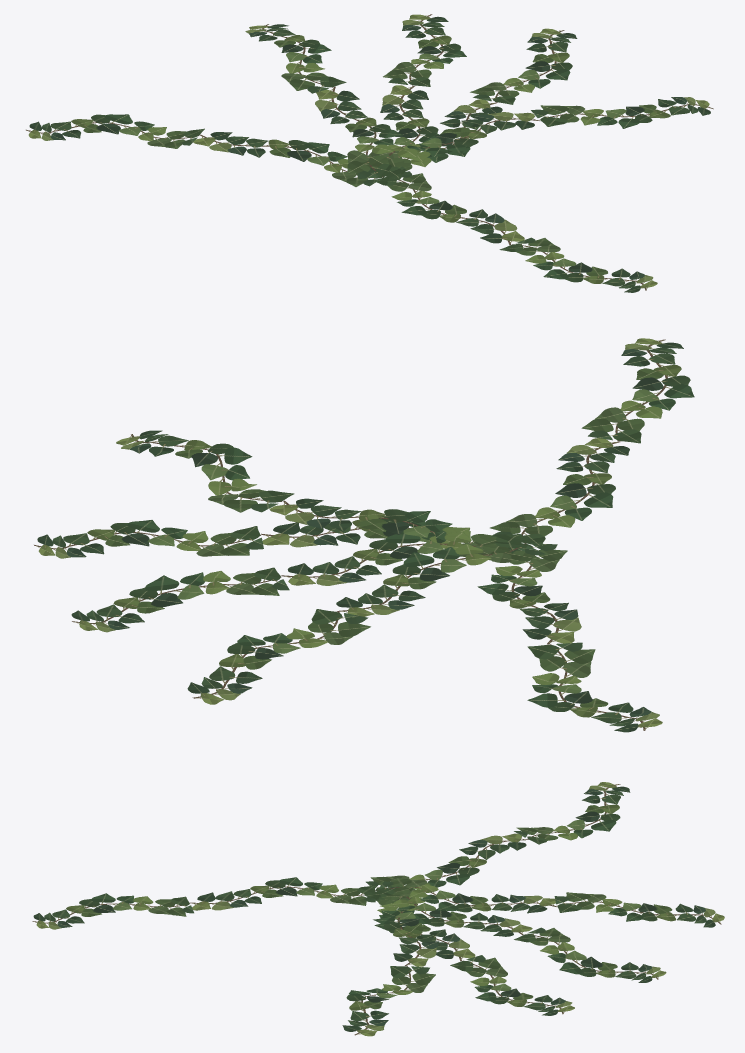
File: SM_Vine_Ground_Creeper.fbx
3 views of the same model, one above another, from view 1: azimuth 30°, elevation 25°; view 2: azimuth 150°, elevation 25°; view 3: azimuth 270°, elevation 25° (orthographic). The views are drawn at different scales.
Visible parts, largest first — view 1: SM_Vine_Ground_Creeper_LOD0; view 2: SM_Vine_Ground_Creeper_LOD0; view 3: SM_Vine_Ground_Creeper_LOD0.
Part boxes in pixels (x1,y1,x2,y2): SM_Vine_Ground_Creeper_LOD0: [26, 14, 713, 292]; SM_Vine_Ground_Creeper_LOD0: [34, 338, 694, 732]; SM_Vine_Ground_Creeper_LOD0: [32, 782, 724, 1036].
Size of what is drawn, in the model's own units: 2.53 by 0.0442 by 3.02.
